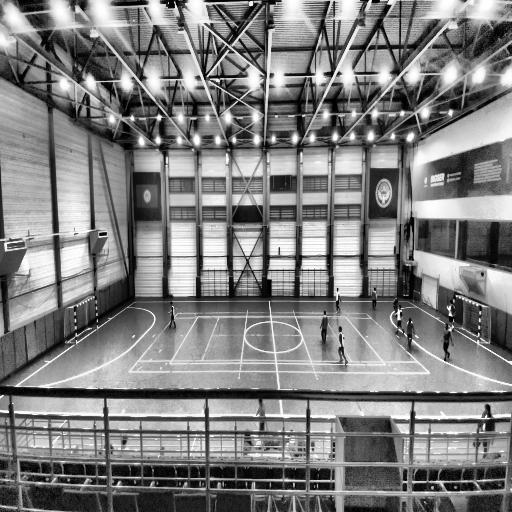player: (471, 403, 496, 457), (440, 324, 454, 362), (337, 325, 349, 368), (394, 306, 405, 336), (168, 299, 178, 330), (446, 300, 456, 330), (320, 310, 328, 346), (407, 318, 415, 351), (371, 286, 378, 311), (335, 286, 341, 314), (393, 294, 399, 315)
